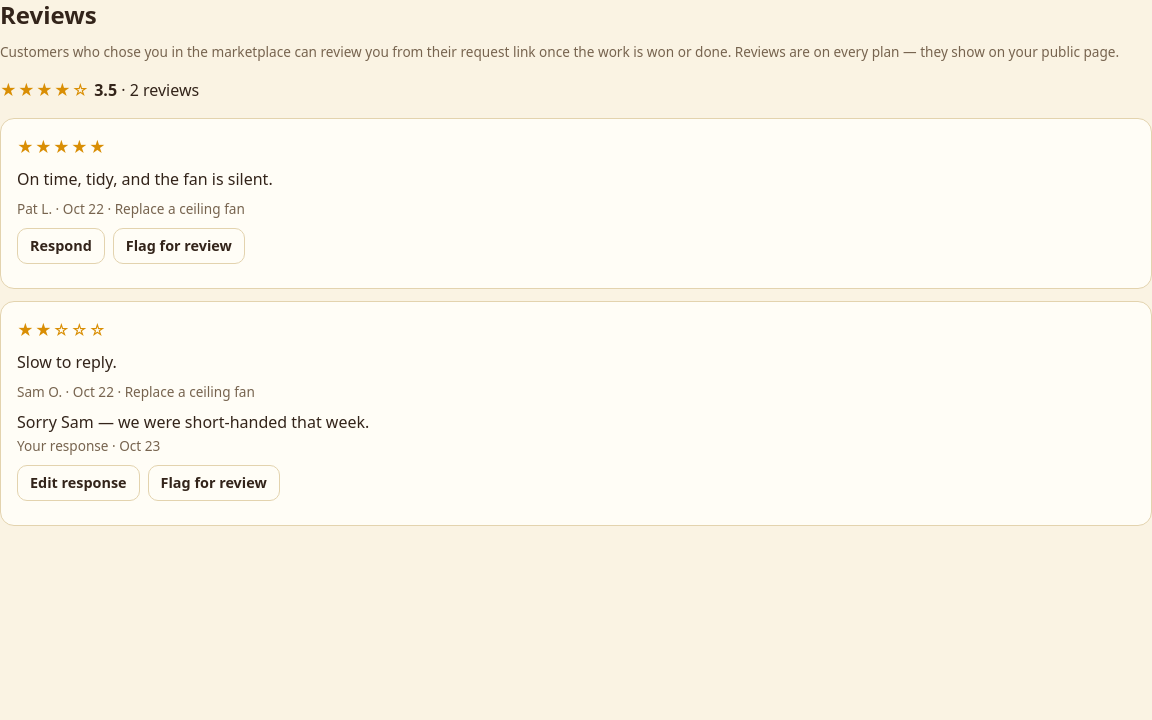
Test: Reviews › flags a review for a moderator, with a note
Expected: the text "On time, tidy, and the fan is silent." is shown, [17,168,273,190]
Click the button "Flag for review" below "On time, tidy, and the fan is silent.": [179, 246] box [113,228,245,264]
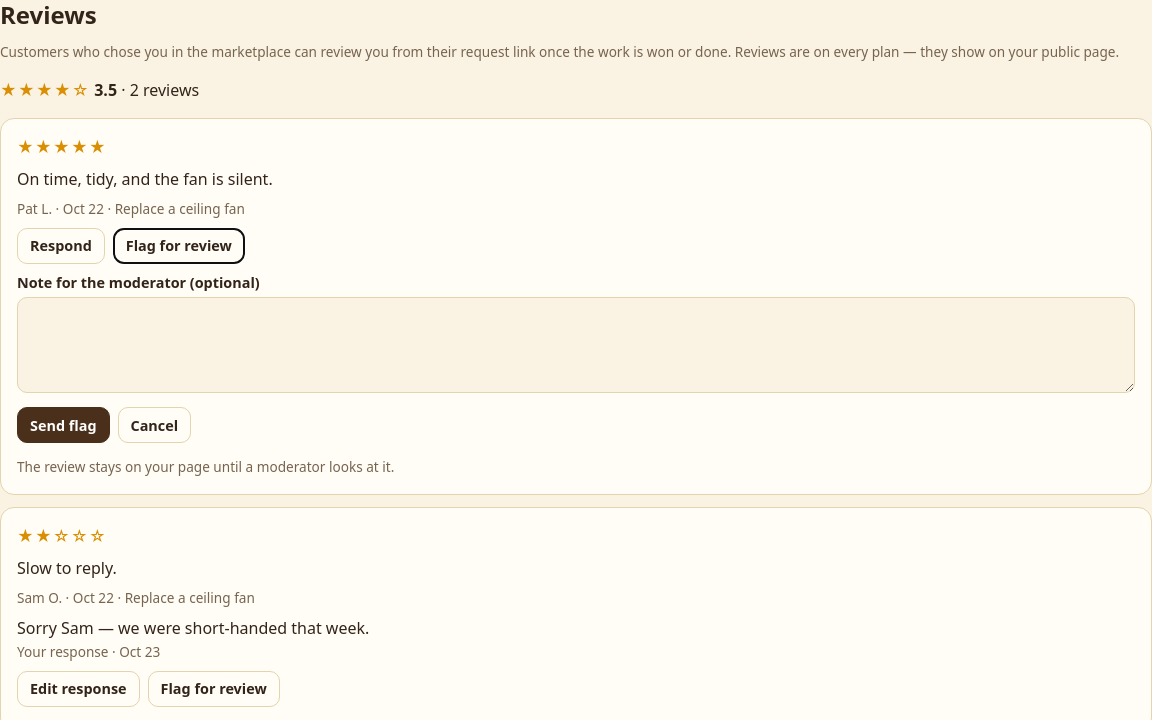
Expected: the text "The review stays on your page until a moderator looks at it." is shown, [17,457,394,476]
In the text box labelled "Note for the moderator": [576, 345] box [17,297,1135,393], type "We did show up."
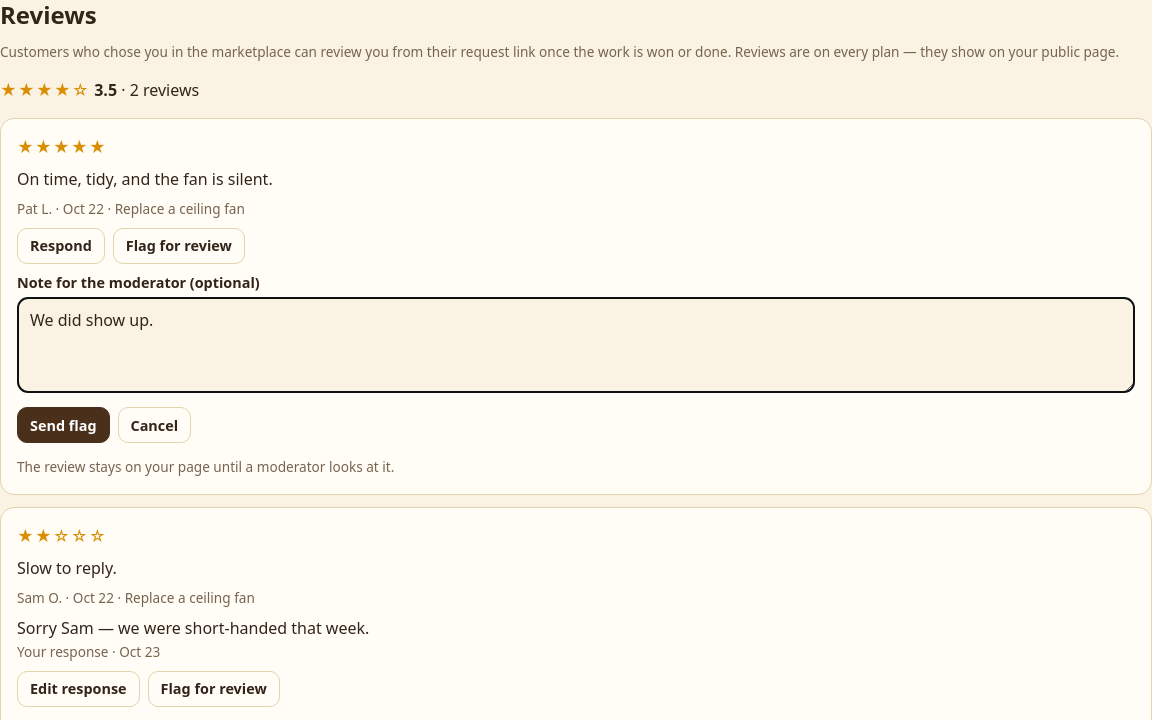
Click the button "Send flag": [63, 425] box [17,407,110,443]
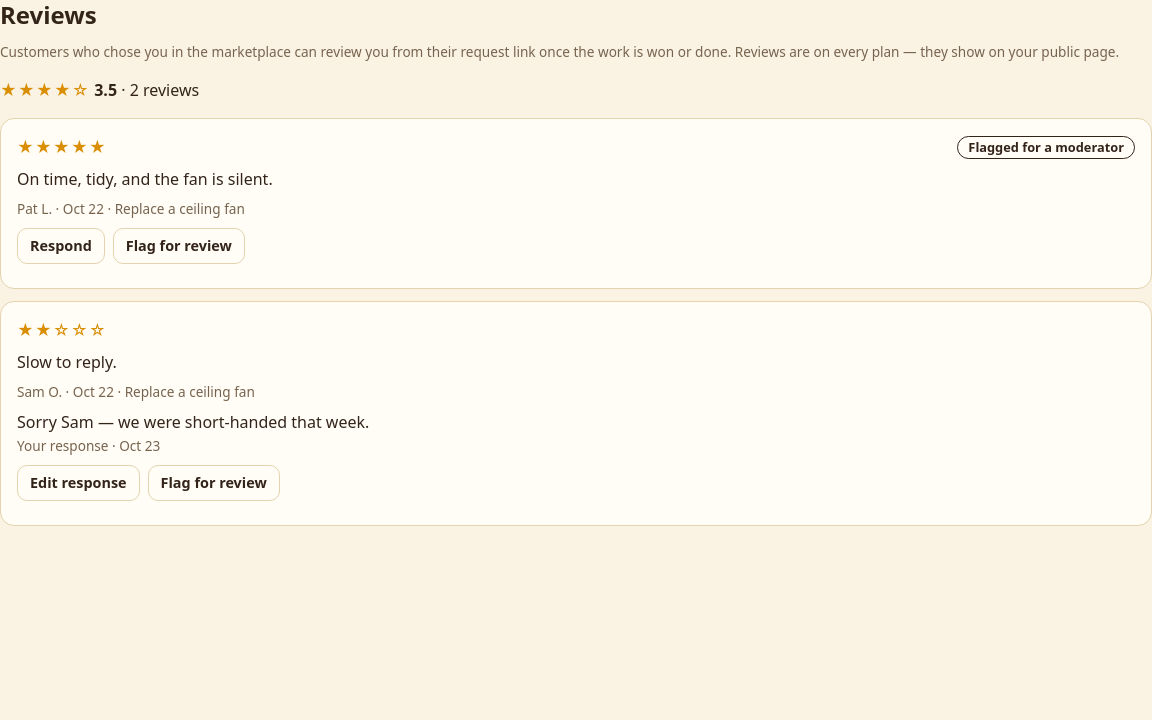
Expected: the text "Flagged for a moderator" is shown, [957,136,1135,159]
